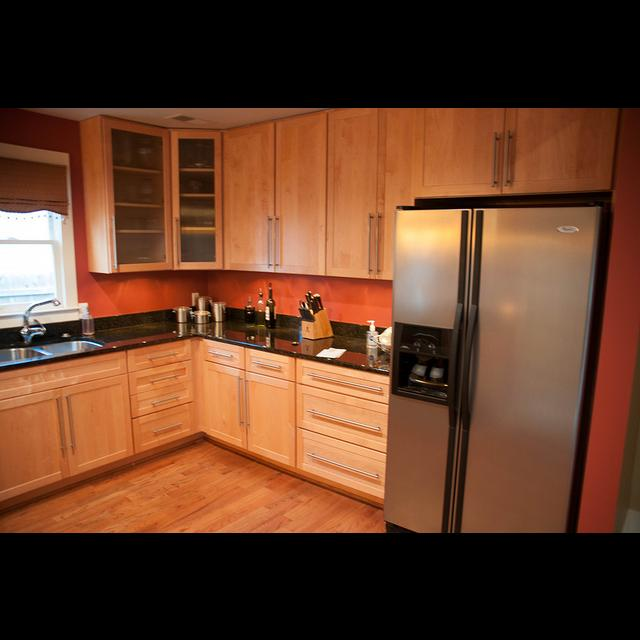Refrigerator: (385, 209, 611, 528)
